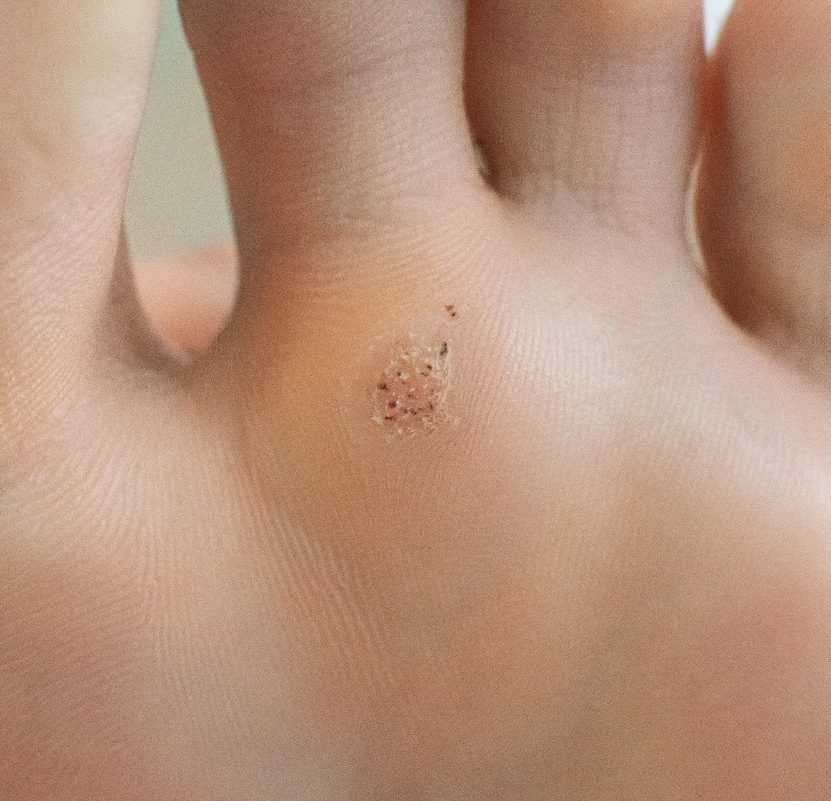Warts: (342, 286, 488, 468)
